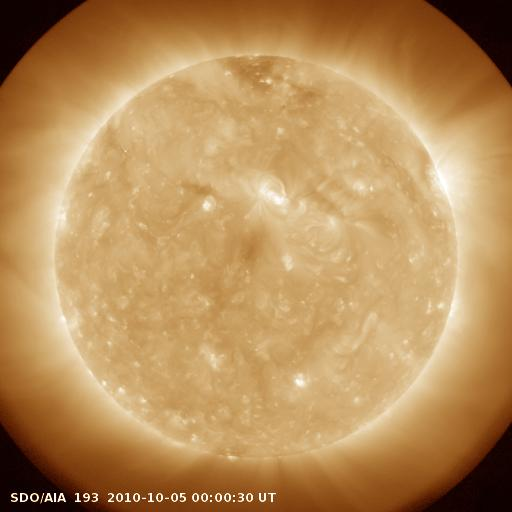coronal_hole: (218, 46, 295, 104)
